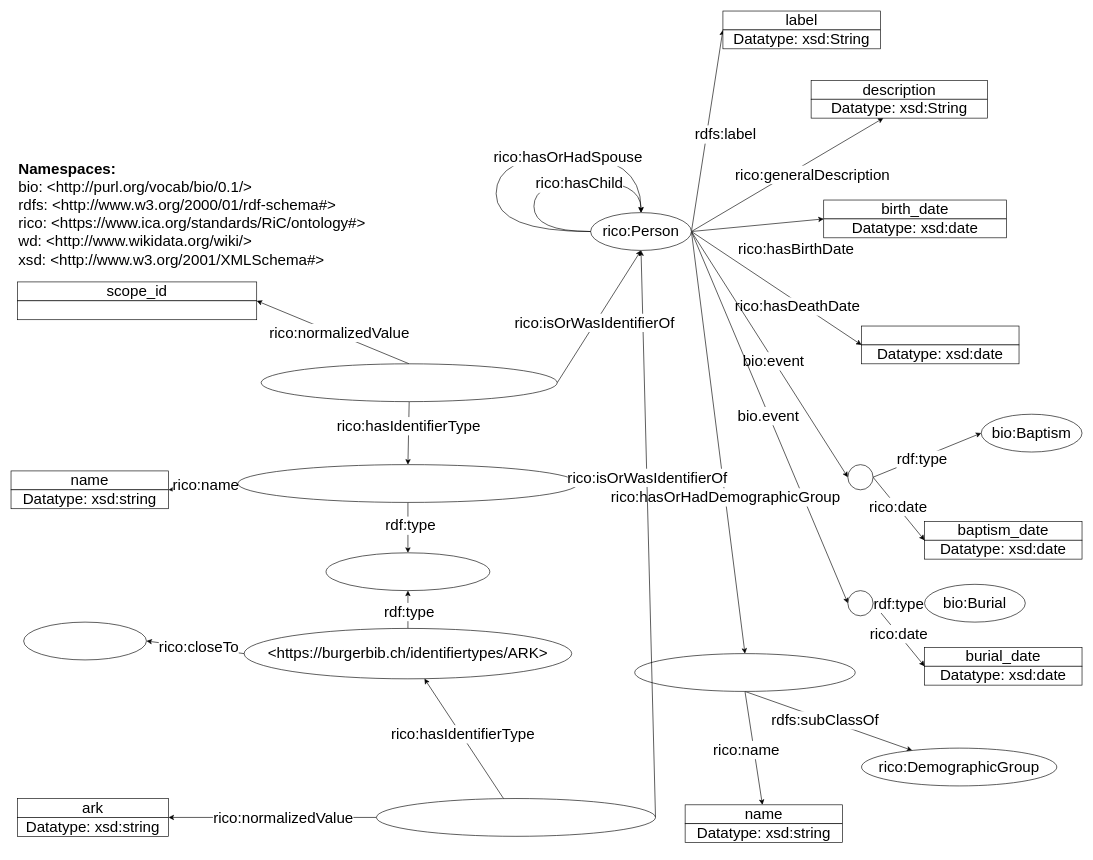
Some shapes in this 1093 by 860 pixel diagram are drawn without their labels. The shapes that lost their labels are listed below. From the top down, each one's centre as x and y in pixels, then its label:
At pixel 137 310: "Datatype: xsd:nonNegativeInteger".
At pixel 940 335: "death_date".
At pixel 409 382: "<https://burgerbib.ch/identifiers/scope:*>".
At pixel 407 483: "<https://burgerbib.ch/identifiertypes/Scope-ID>".
At pixel 407 571: "rico:IdentifierType".
At pixel 84 640: "wd:Q2860403".
At pixel 744 672: "<https://burgerbib.ch/demographicgroups/*>".
At pixel 516 817: "<https://burgerbib.ch/identifiers/ark:*>".
